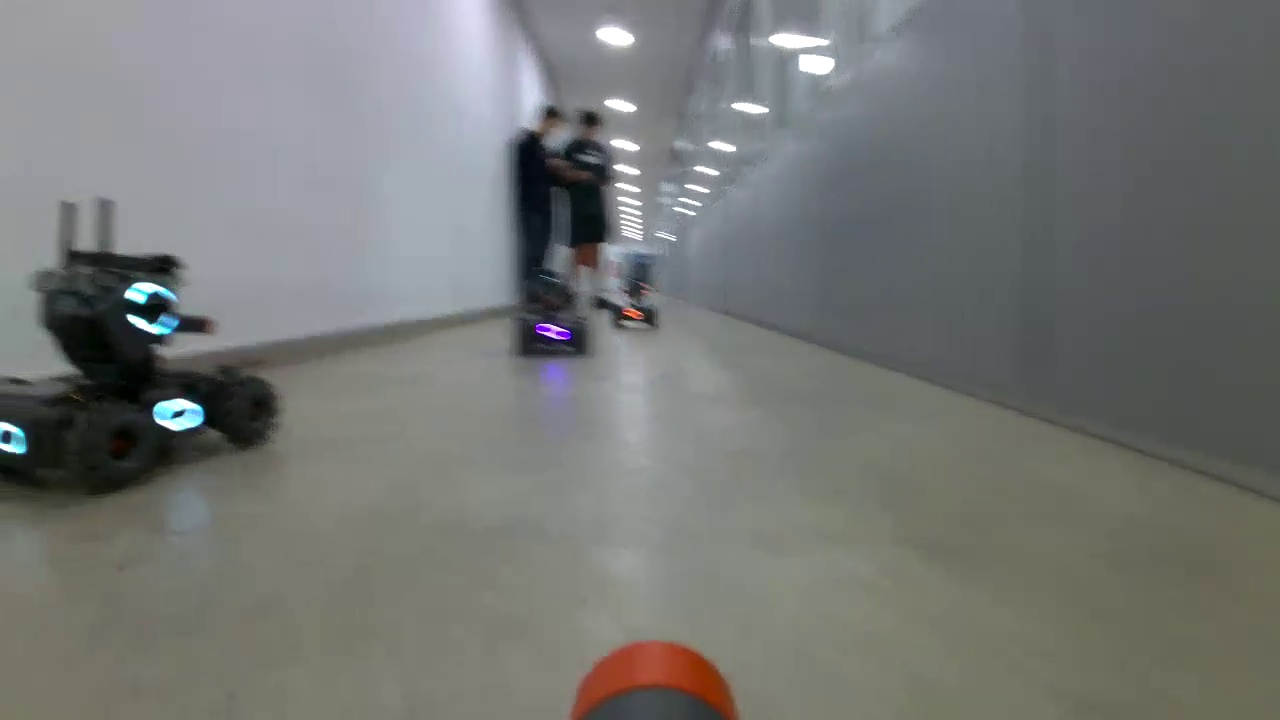robot: (1, 249, 282, 491), (510, 268, 593, 357), (612, 274, 659, 331)
